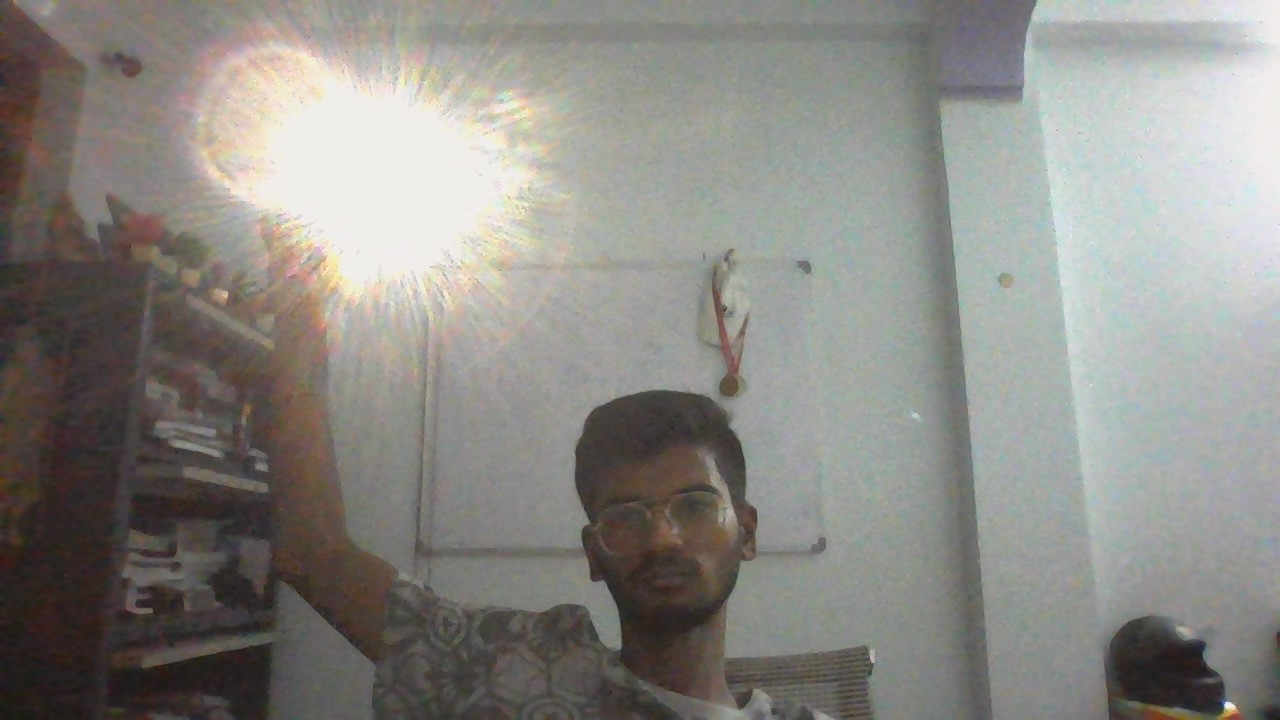Glare: (216, 65, 533, 297)
